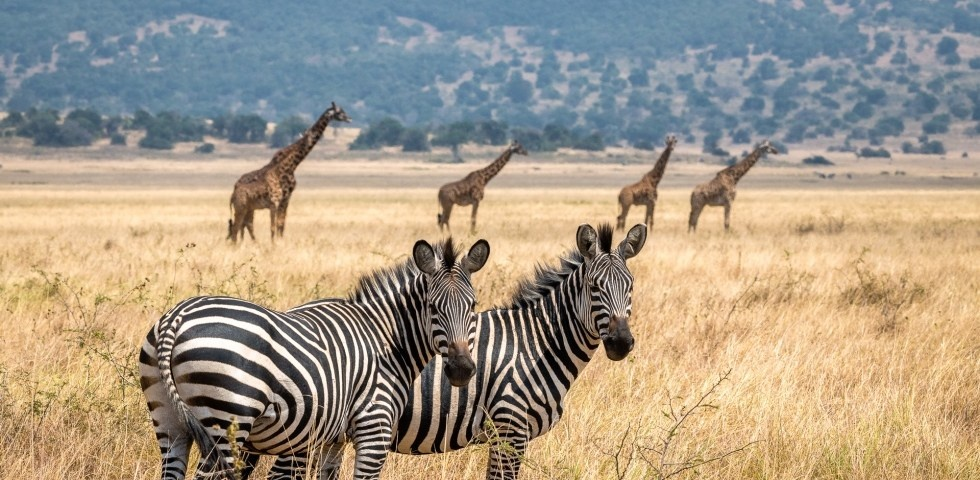giraffe: (225, 99, 352, 249), (685, 135, 780, 243), (434, 138, 531, 237), (613, 133, 679, 235)
zebra: (125, 229, 492, 476), (312, 220, 653, 479)
